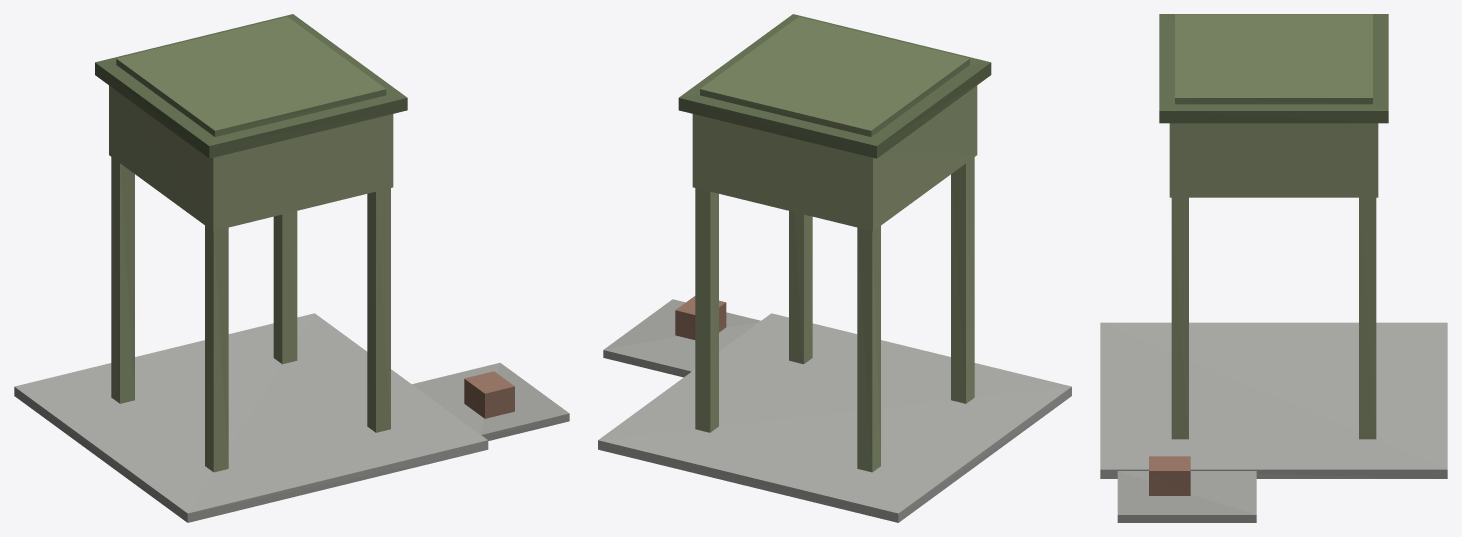
The model's file is small_tower_procedural_tower_edited.glb.
3 views of the same model, side by side, from view 1: azimuth 30°, elevation 25°; view 2: azimuth 150°, elevation 25°; view 3: azimuth 270°, elevation 25° (orthographic).
Visible parts, largest first — view 1: part_0, part_7, part_9, part_8, part_3, part_5, part_4, part_1, part_6, part_2; view 2: part_0, part_7, part_9, part_8, part_4, part_6, part_3, part_1, part_5, part_2; view 3: part_0, part_9, part_7, part_8, part_1, part_5, part_6, part_2.
Boxes of the visible parts, left/top/right/bottom form: part_0: left=14, top=313, right=488, bottom=522; part_7: left=109, top=85, right=393, bottom=231; part_9: left=116, top=16, right=386, bottom=136; part_8: left=95, top=14, right=407, bottom=158; part_3: left=205, top=225, right=228, bottom=472; part_5: left=367, top=188, right=390, bottom=432; part_4: left=111, top=157, right=134, bottom=403; part_1: left=412, top=362, right=569, bottom=440; part_6: left=273, top=211, right=297, bottom=364; part_2: left=464, top=371, right=514, bottom=418; part_0: left=598, top=313, right=1071, bottom=522; part_7: left=692, top=85, right=977, bottom=231; part_9: left=700, top=17, right=969, bottom=136; part_8: left=678, top=14, right=991, bottom=158; part_4: left=857, top=226, right=880, bottom=472; part_6: left=695, top=188, right=718, bottom=432; part_3: left=951, top=157, right=974, bottom=403; part_1: left=603, top=299, right=760, bottom=377; part_5: left=789, top=211, right=812, bottom=364; part_2: left=675, top=296, right=726, bottom=339; part_0: left=1100, top=322, right=1447, bottom=478; part_9: left=1175, top=14, right=1372, bottom=104; part_7: left=1169, top=123, right=1378, bottom=197; part_8: left=1159, top=14, right=1388, bottom=123; part_1: left=1117, top=471, right=1256, bottom=522; part_5: left=1171, top=197, right=1188, bottom=439; part_6: left=1359, top=197, right=1376, bottom=439; part_2: left=1149, top=456, right=1190, bottom=495.
Bounding box in the file's own units: 1.3 × 1.11 × 1.
